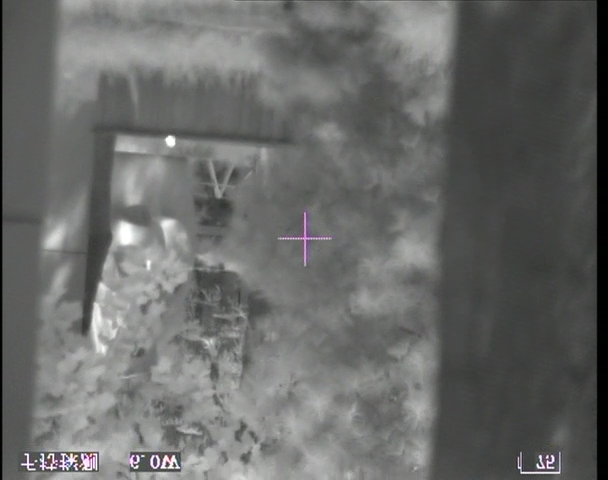my: (164, 134, 177, 147)
